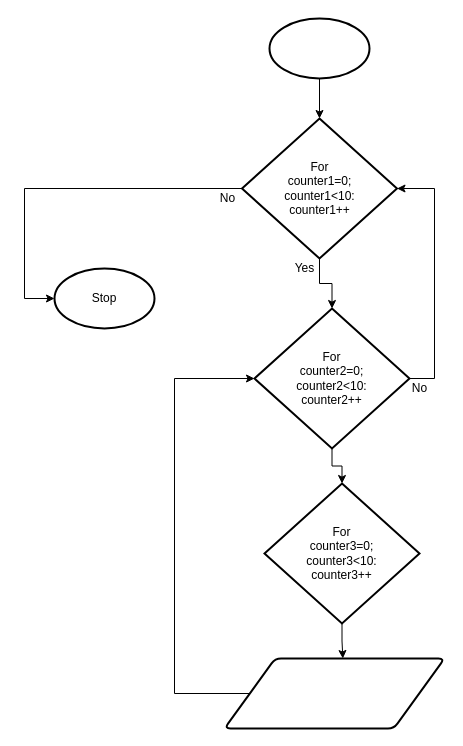
The diagram is 463 pixels wide and 746 high, and some of its shapes have lost their labels. The centre of each missing label's shape, as x and y in pixels:
"print(counter1, counter2, counter3)" belongs at [334,693].
"Start" belongs at [319,48].
